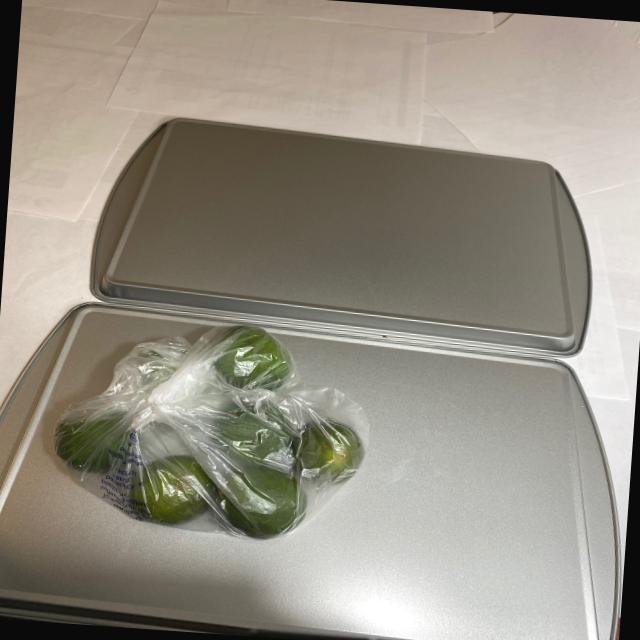lemon: (46, 314, 371, 547)
